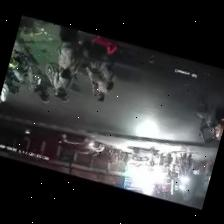person: (87, 66, 111, 101), (58, 41, 79, 77), (54, 69, 75, 97), (60, 26, 78, 42), (0, 80, 9, 103)
